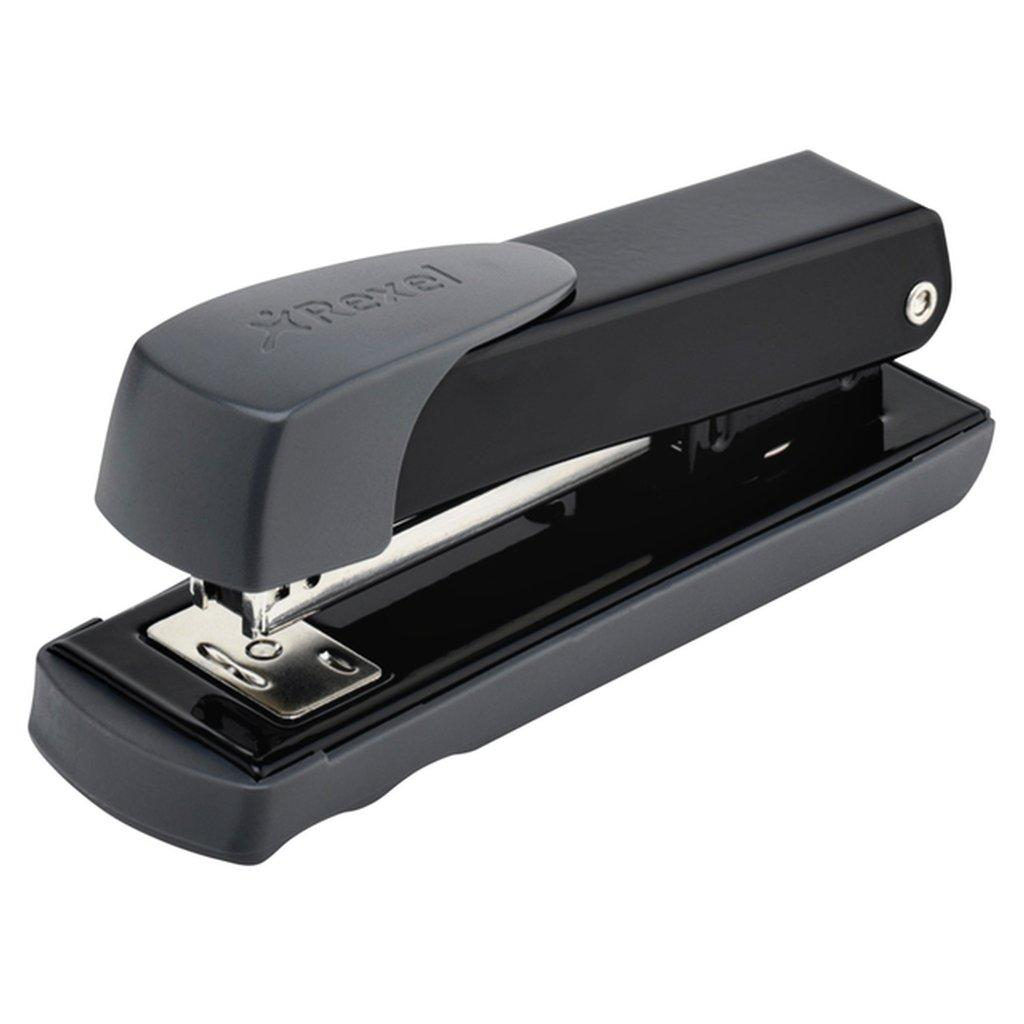Stapler: (0, 121, 1024, 896)
